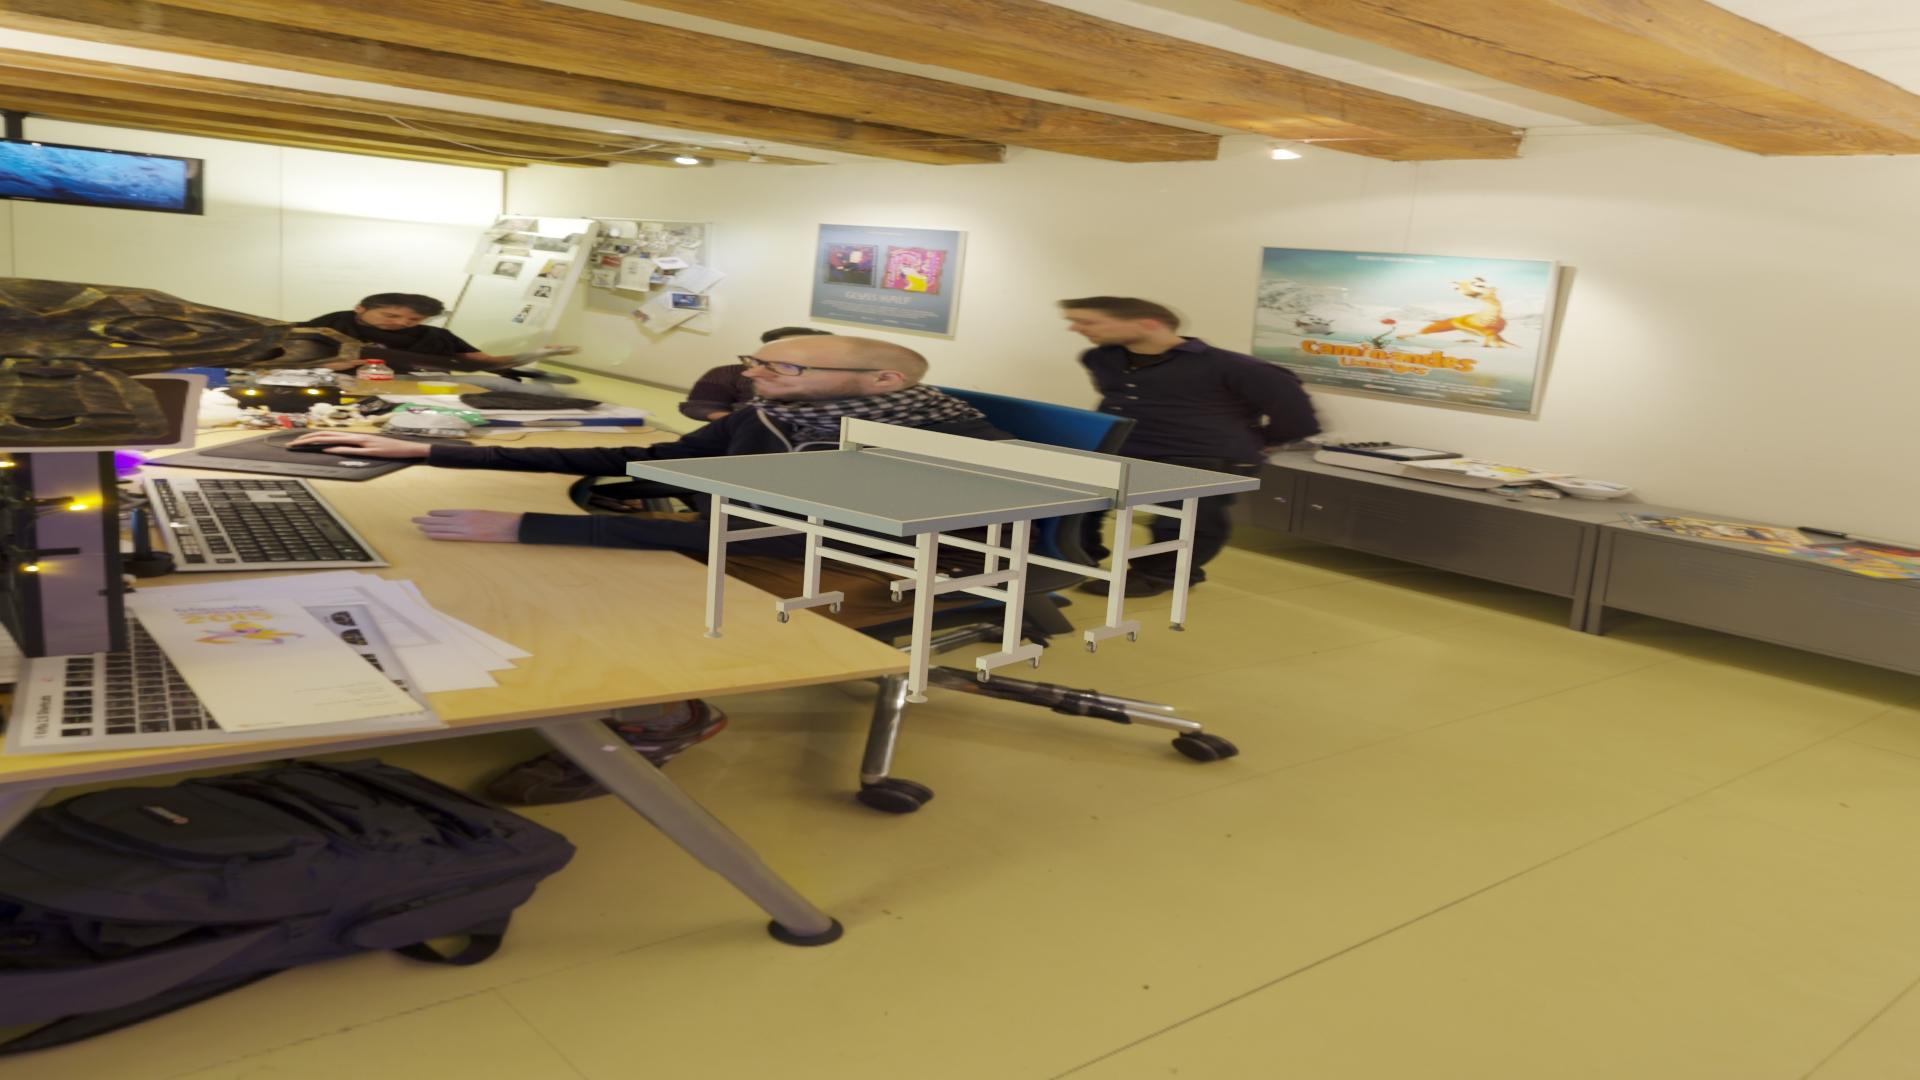table: (634, 440, 1255, 521)
